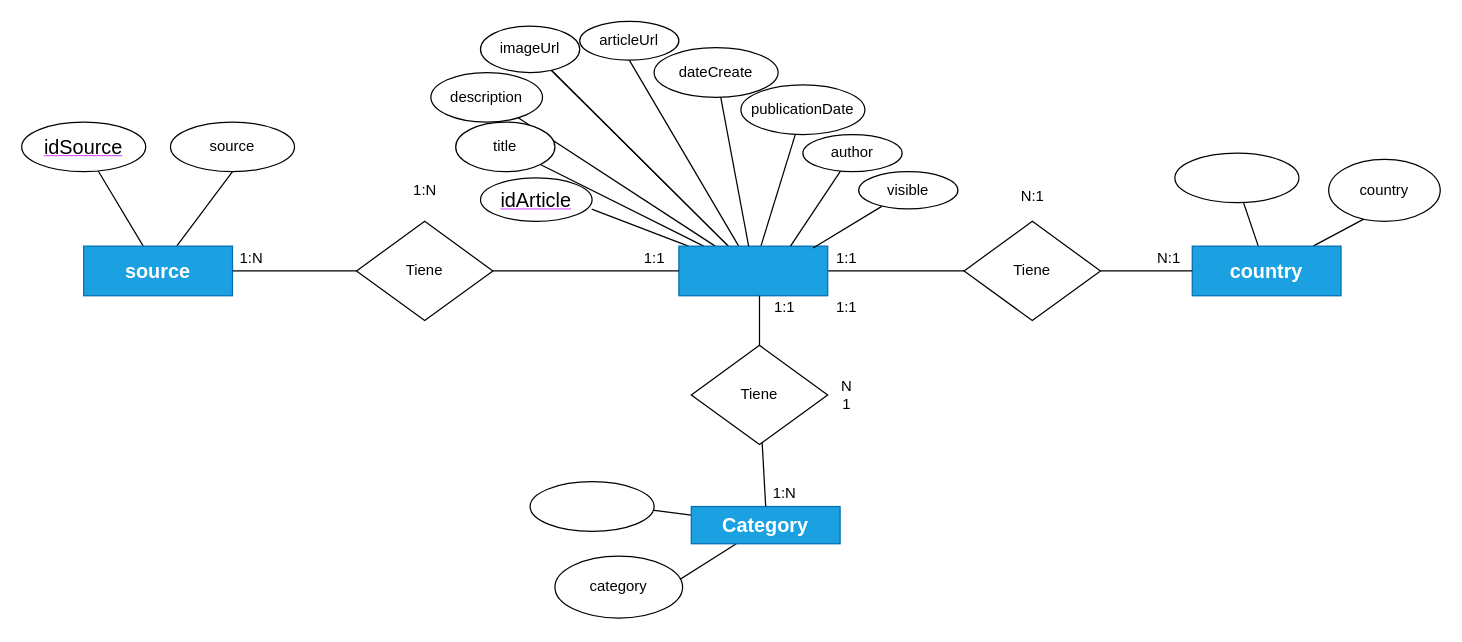
This 1462x642 diagram has some shape labels left out. The shapes that lost their labels are listed below. From the top down, each one's centre as x and y in pixels, then its label:
At pixel 1236 177: "codeCountry".
At pixel 753 270: "Article".
At pixel 591 505: "idCategory".
